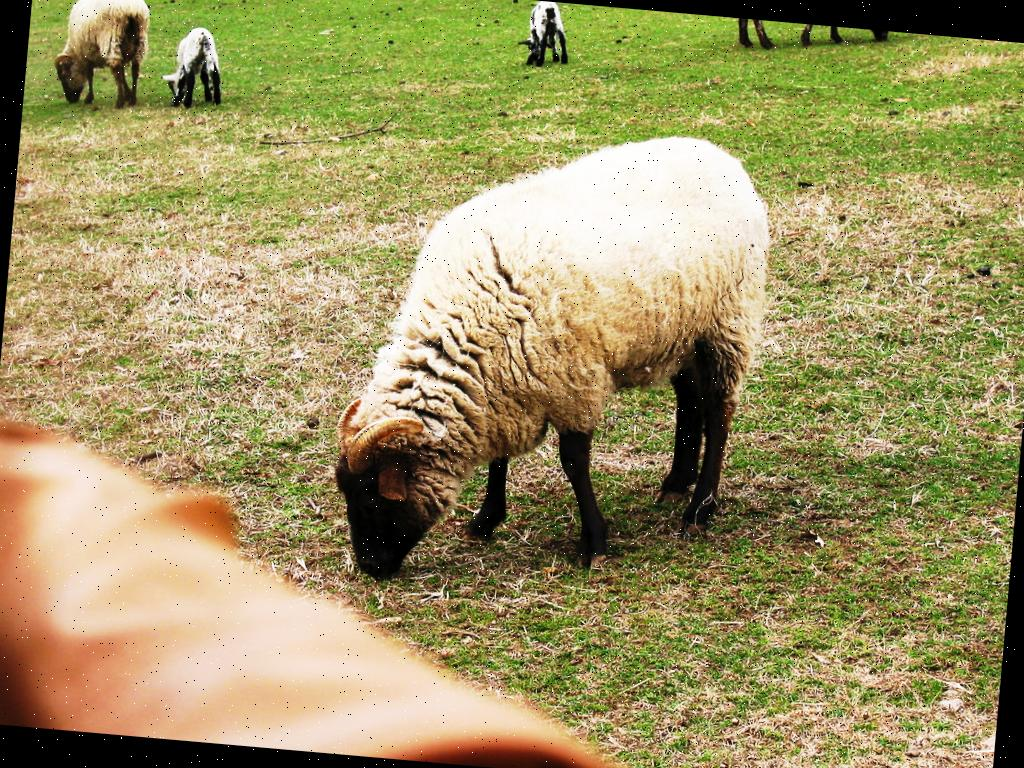Sheep: (318, 106, 779, 615), (50, 0, 152, 109), (154, 11, 236, 122), (509, 0, 582, 69)
